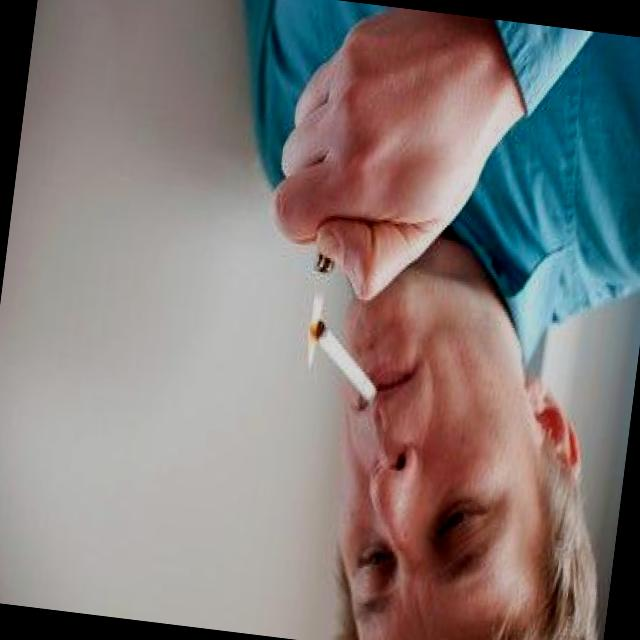smoke: (256, 200, 419, 434)
